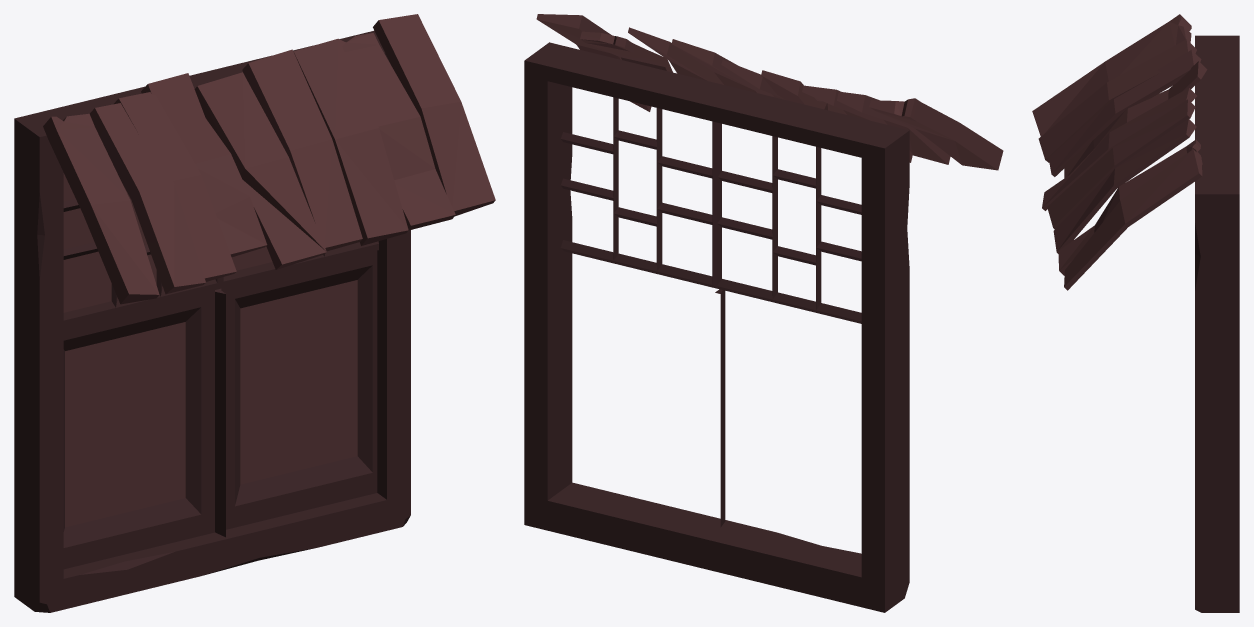
Rendered from SM_Env_Door_26.fbx.
3 views of the same model, side by side, from view 1: azimuth 30°, elevation 25°; view 2: azimuth 150°, elevation 25°; view 3: azimuth 270°, elevation 25° (orthographic). The views are drawn at different scales.
Visible parts, largest first — view 1: SM_Env_Door_26; view 2: SM_Env_Door_26; view 3: SM_Env_Door_26.
Boxes of the visible parts, box(x1,y1,x2,y2) form: SM_Env_Door_26: box(14, 14, 495, 612); SM_Env_Door_26: box(524, 14, 1003, 612); SM_Env_Door_26: box(1032, 14, 1239, 612).
Size of the model in its own units: 129 by 164 by 68.51.
1 material, 1 textured.
